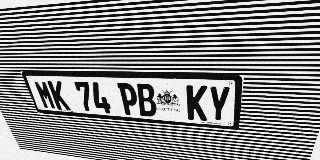4: (89, 82, 112, 114)
7: (73, 81, 96, 112)
B: (135, 83, 157, 117)
K: (186, 85, 208, 121), (47, 81, 71, 110)
M: (33, 80, 57, 109)
P: (117, 83, 140, 116)
Y: (208, 86, 231, 122)
